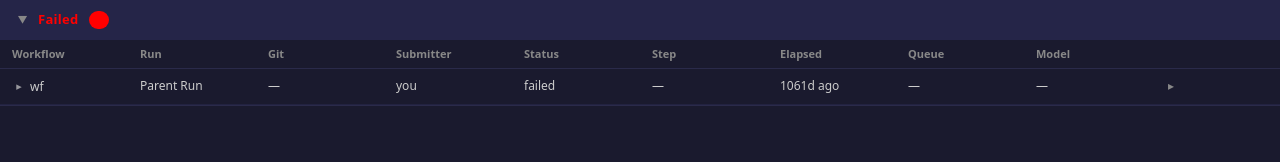
Test: QueueSection — run hierarchy cache invalidation on refresh › a refreshSignal bump keeps an expanded row open and refetches its children
The image size is (1280, 162).
Later steps or results of the test are not shown.
Click the button named "show child runs of parent run".
click(19, 86)  # box [12,81,26,92]
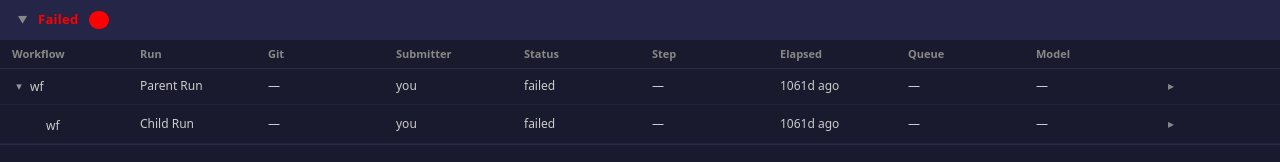
Check: the text "Child Run" is shown, box [128,104,256,143]
